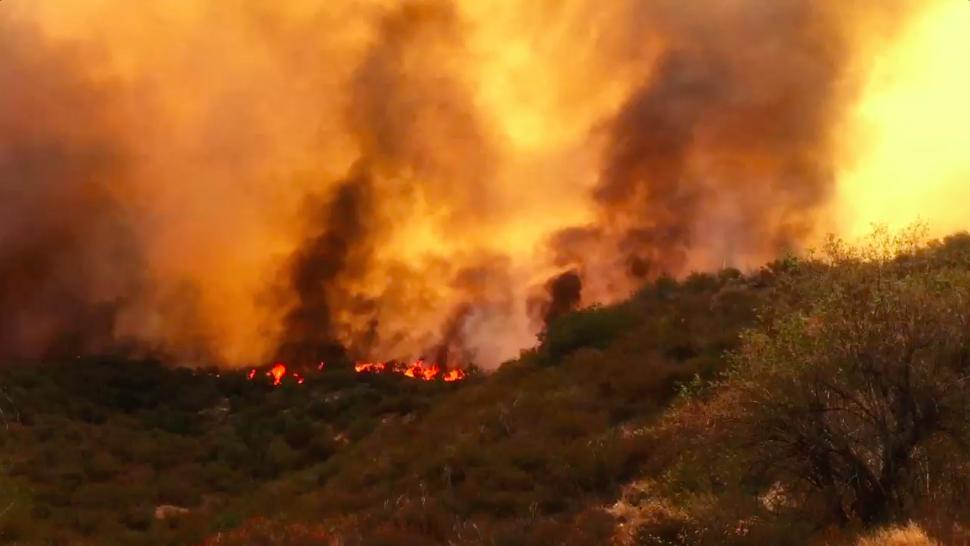Fire: (213, 325, 505, 414)
